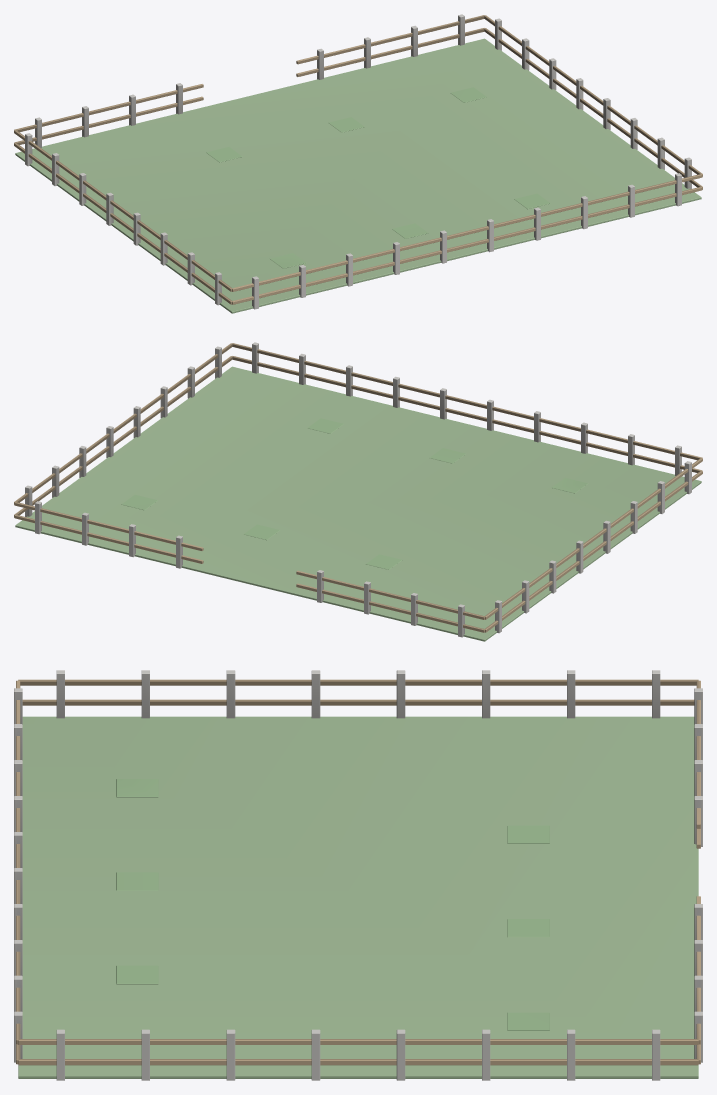
The model's file is petshop_playpen.glb.
3 views of the same model, one above another, from view 1: azimuth 30°, elevation 25°; view 2: azimuth 150°, elevation 25°; view 3: azimuth 270°, elevation 25° (orthographic). The views are drawn at different scales.
Size of the model in its own units: 10.1 by 0.62 by 8.1.
